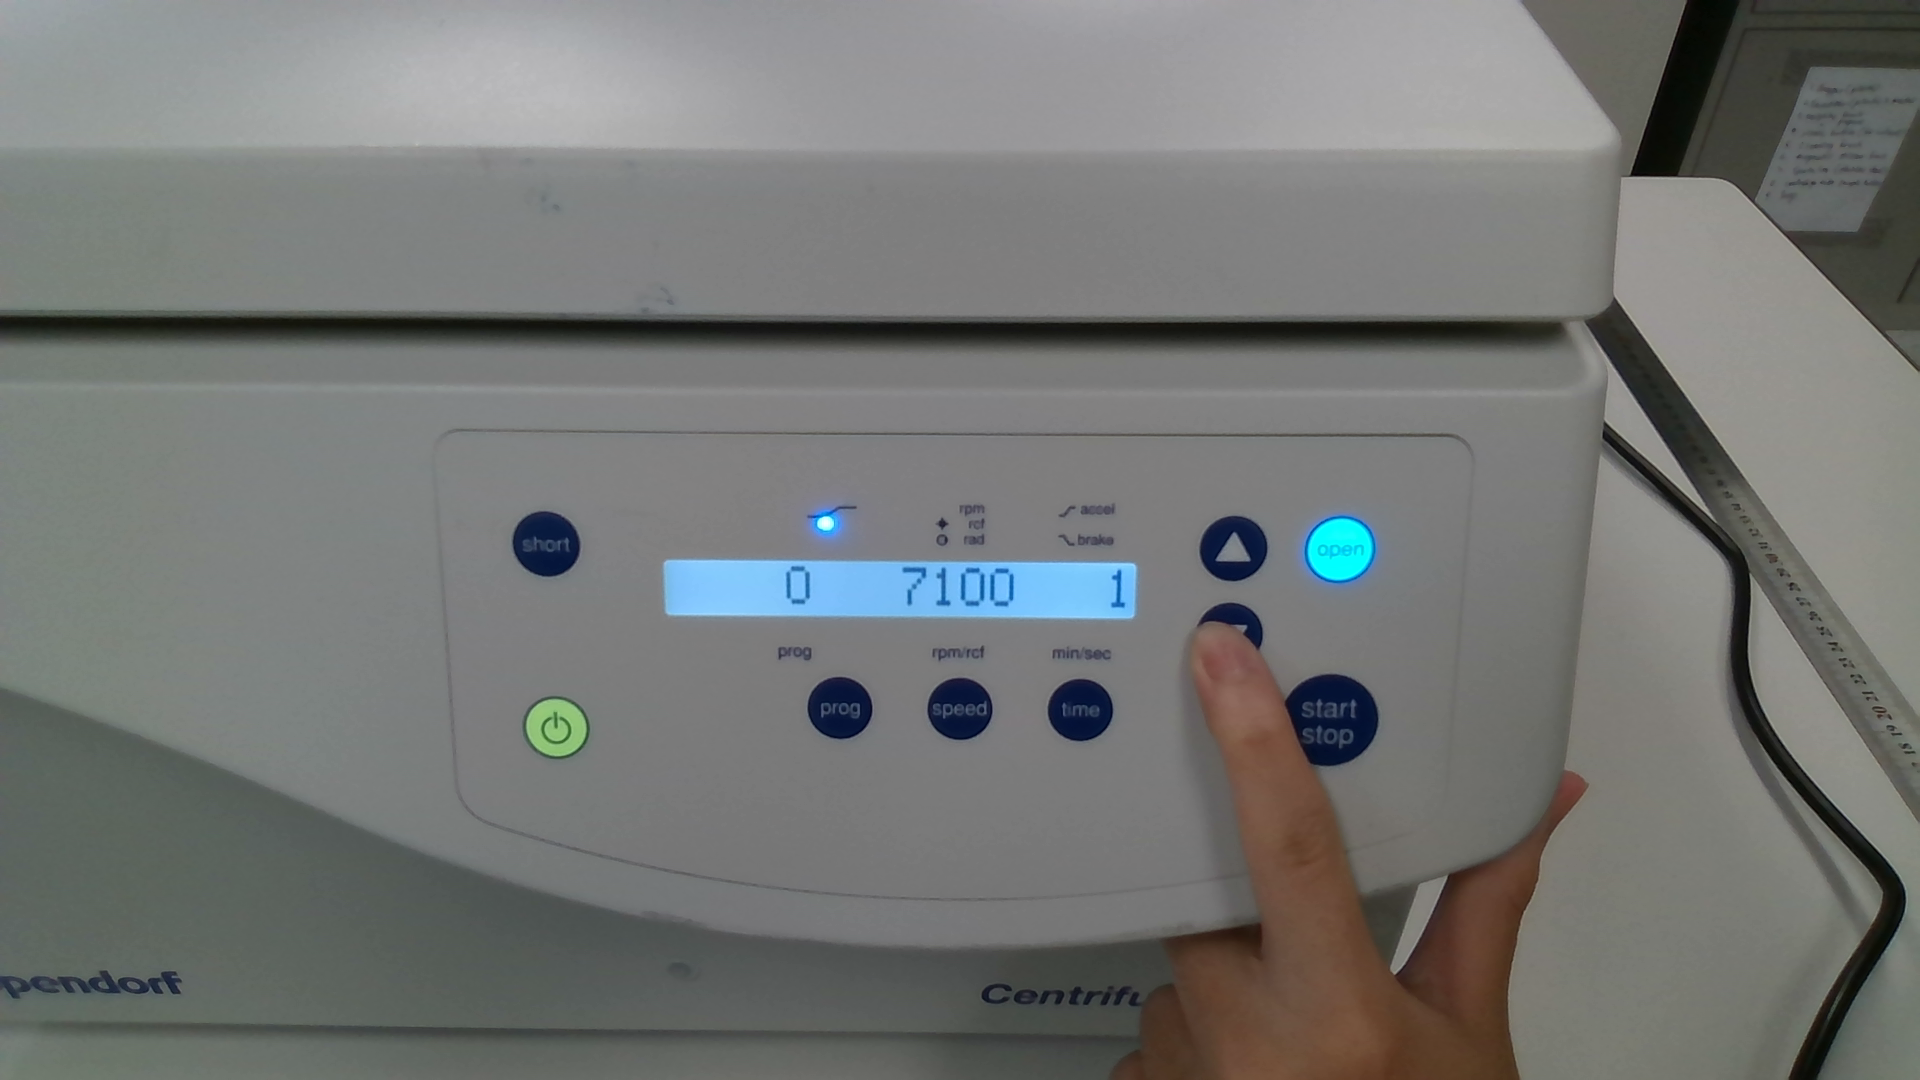0: (786, 566, 811, 605), (960, 568, 985, 607), (989, 568, 1014, 607)
1: (931, 567, 956, 607), (1106, 568, 1131, 608)
7: (902, 567, 927, 607)
open_on: (1304, 516, 1375, 584)
power_on: (522, 696, 589, 760)
